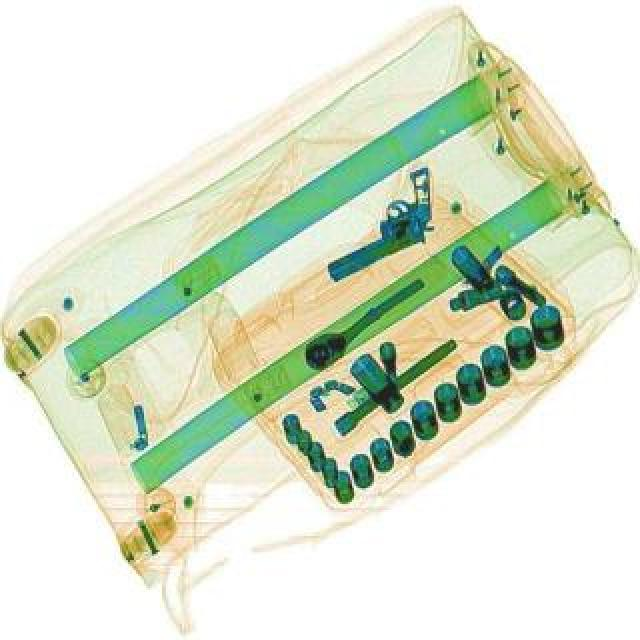gun: (300, 164, 464, 288)
